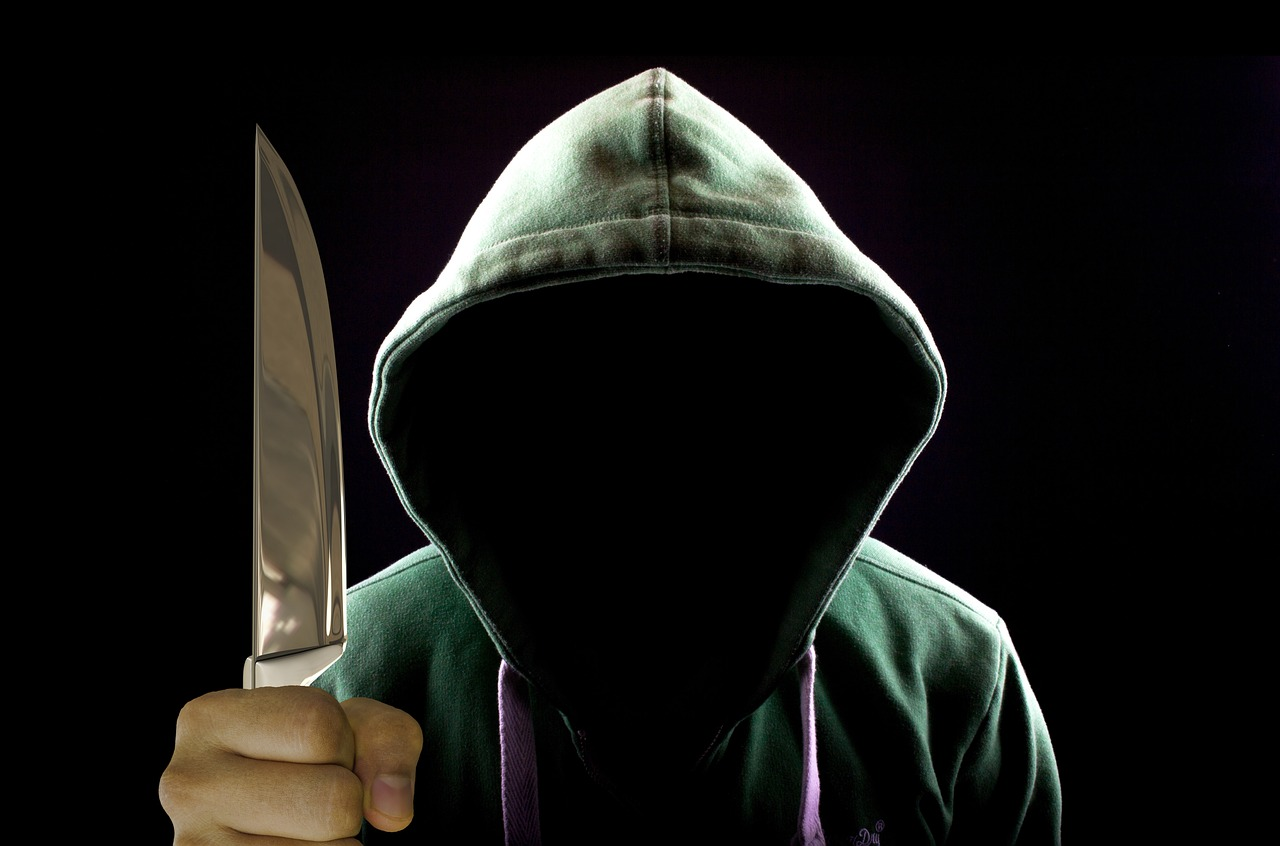knife: (241, 107, 352, 713)
